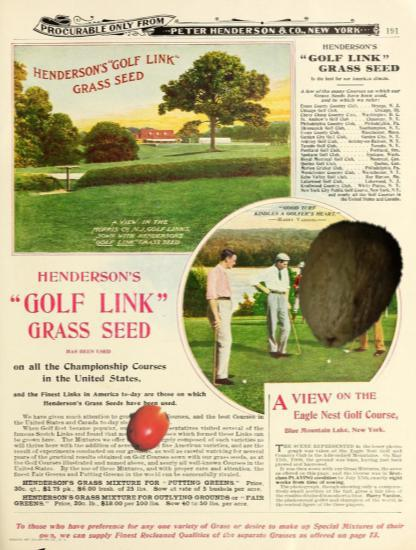Kaki: (121, 402, 172, 453)
Papaya: (278, 215, 415, 352)
